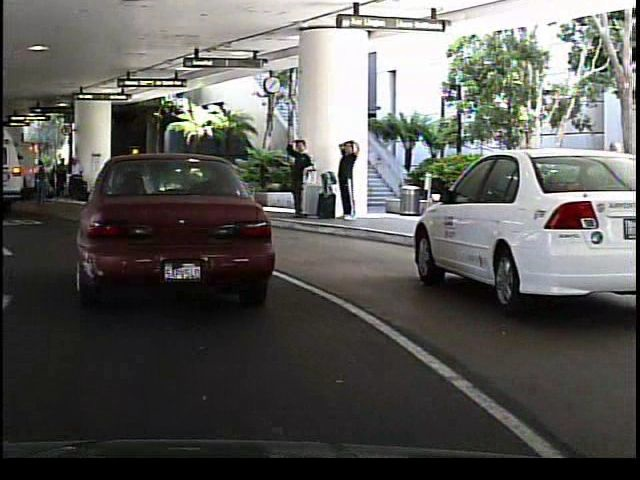person: (333, 135, 359, 221), (282, 133, 308, 217), (323, 149, 344, 216), (170, 154, 189, 195)
